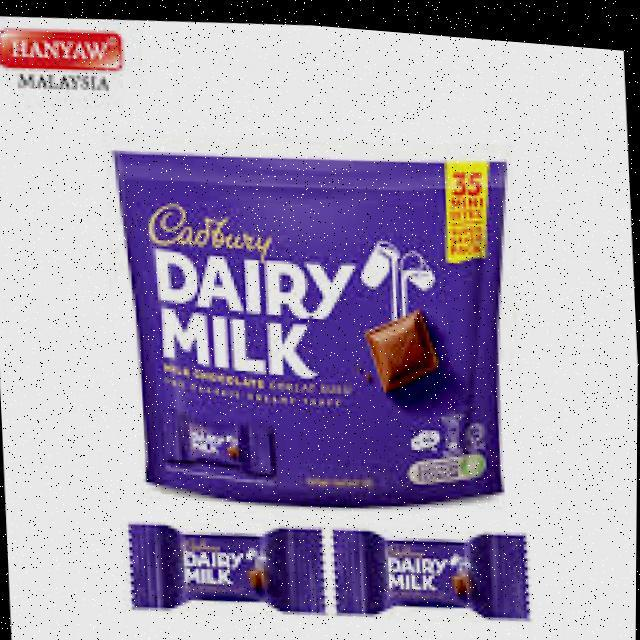cadbury_chocolate: (130, 155, 507, 490), (342, 526, 533, 626), (125, 524, 317, 608)
